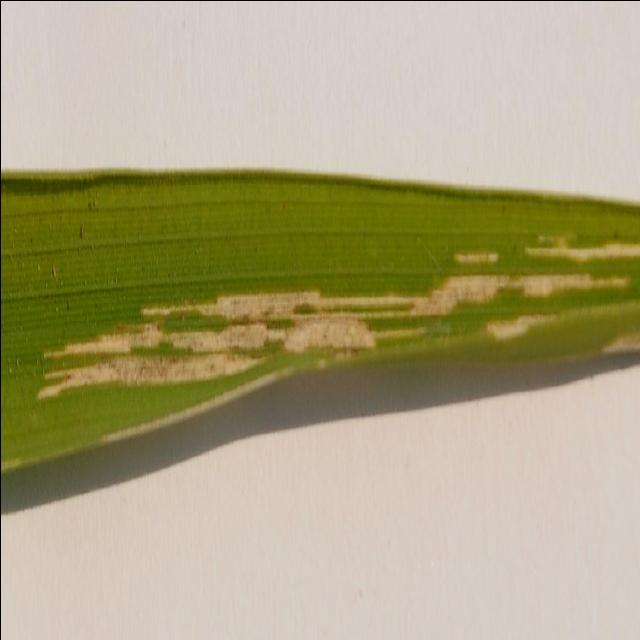Bacterial_Leaf_Blight: (24, 217, 640, 458)
